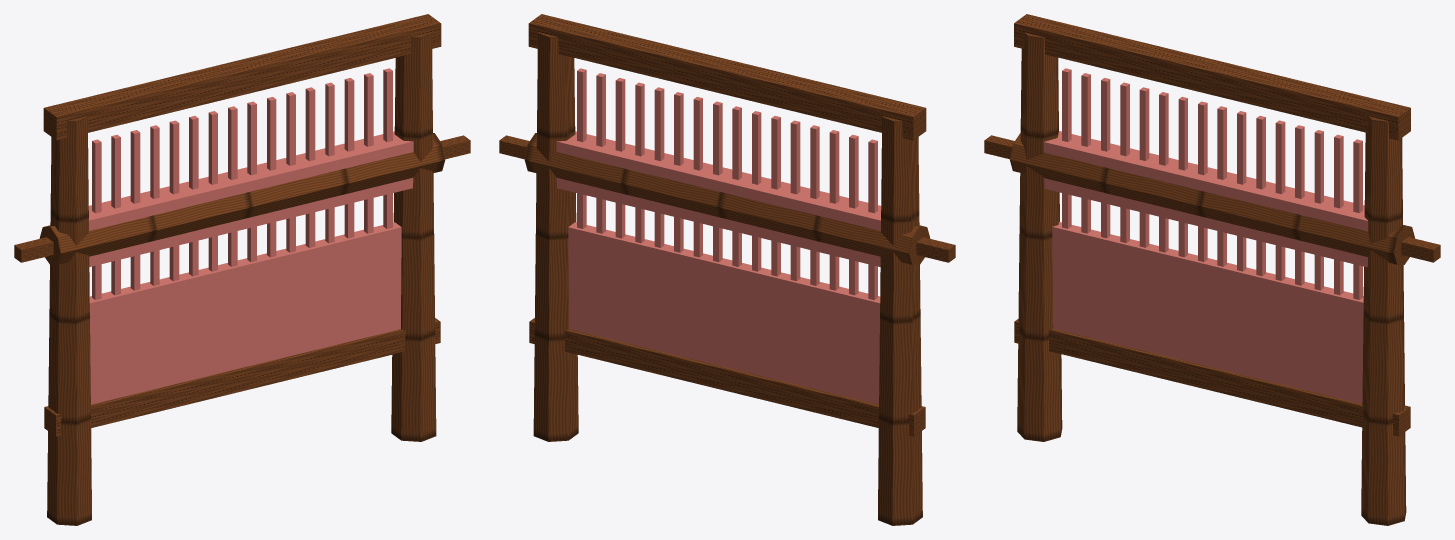
The model's file is andean-terraces-and-stone-village-upright-loom-84788341__38268.glb.
3 renders of one model, left to right at view 1: azimuth 30°, elevation 25°; view 2: azimuth 150°, elevation 25°; view 3: azimuth 330°, elevation 25°, orthographic.
Visible parts, largest first — view 1: upright-loom-timber, upright-loom-cloth, beam/timber, beam/cloth; view 2: upright-loom-timber, upright-loom-cloth, beam/timber, beam/cloth; view 3: upright-loom-timber, upright-loom-cloth, beam/timber, beam/cloth.
Part boxes in pixels (x1=…): upright-loom-timber: x1=43, y1=14, x2=441, y2=525; upright-loom-cloth: x1=89, y1=68, x2=401, y2=404; beam/timber: x1=14, y1=133, x2=470, y2=264; beam/cloth: x1=88, y1=131, x2=413, y2=266; upright-loom-timber: x1=528, y1=14, x2=926, y2=525; upright-loom-cloth: x1=568, y1=68, x2=880, y2=404; beam/timber: x1=499, y1=133, x2=955, y2=264; beam/cloth: x1=556, y1=131, x2=881, y2=266; upright-loom-timber: x1=1014, y1=14, x2=1410, y2=525; upright-loom-cloth: x1=1052, y1=68, x2=1363, y2=403; beam/timber: x1=984, y1=133, x2=1440, y2=264; beam/cloth: x1=1044, y1=131, x2=1368, y2=267.
Bounding box in the file's own units: 2.22 × 1.93 × 0.1951.
Materials: 2 (1 with a texture image).
